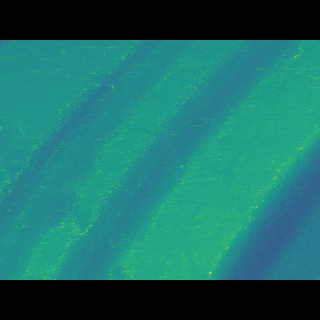Loch: (0, 70, 298, 250), (206, 134, 320, 249)
